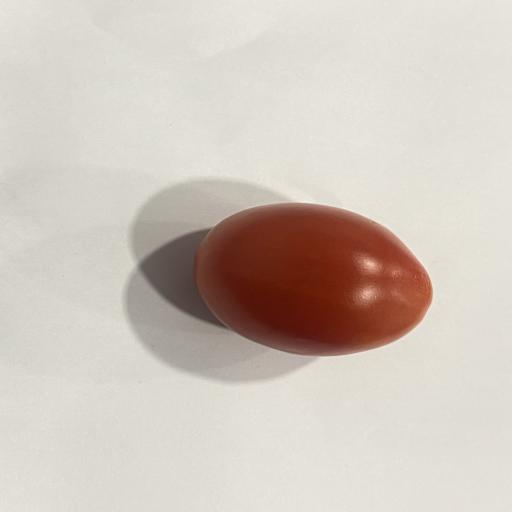ripe: (194, 203, 432, 356)
